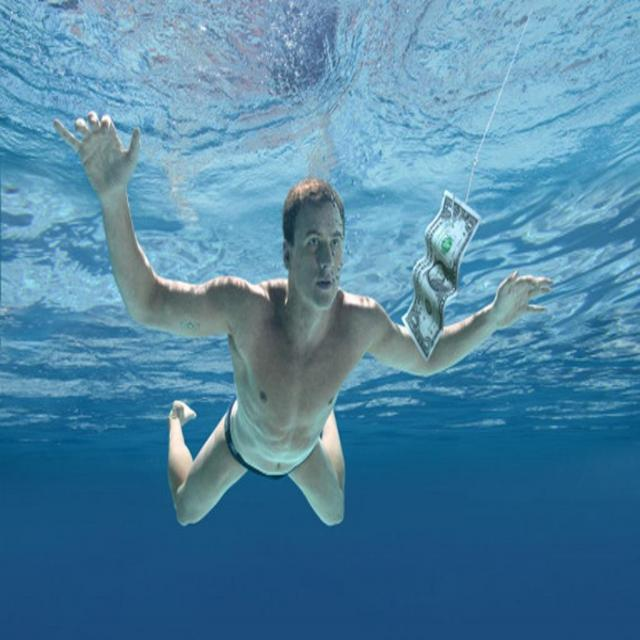nomask: (300, 216, 350, 306)
